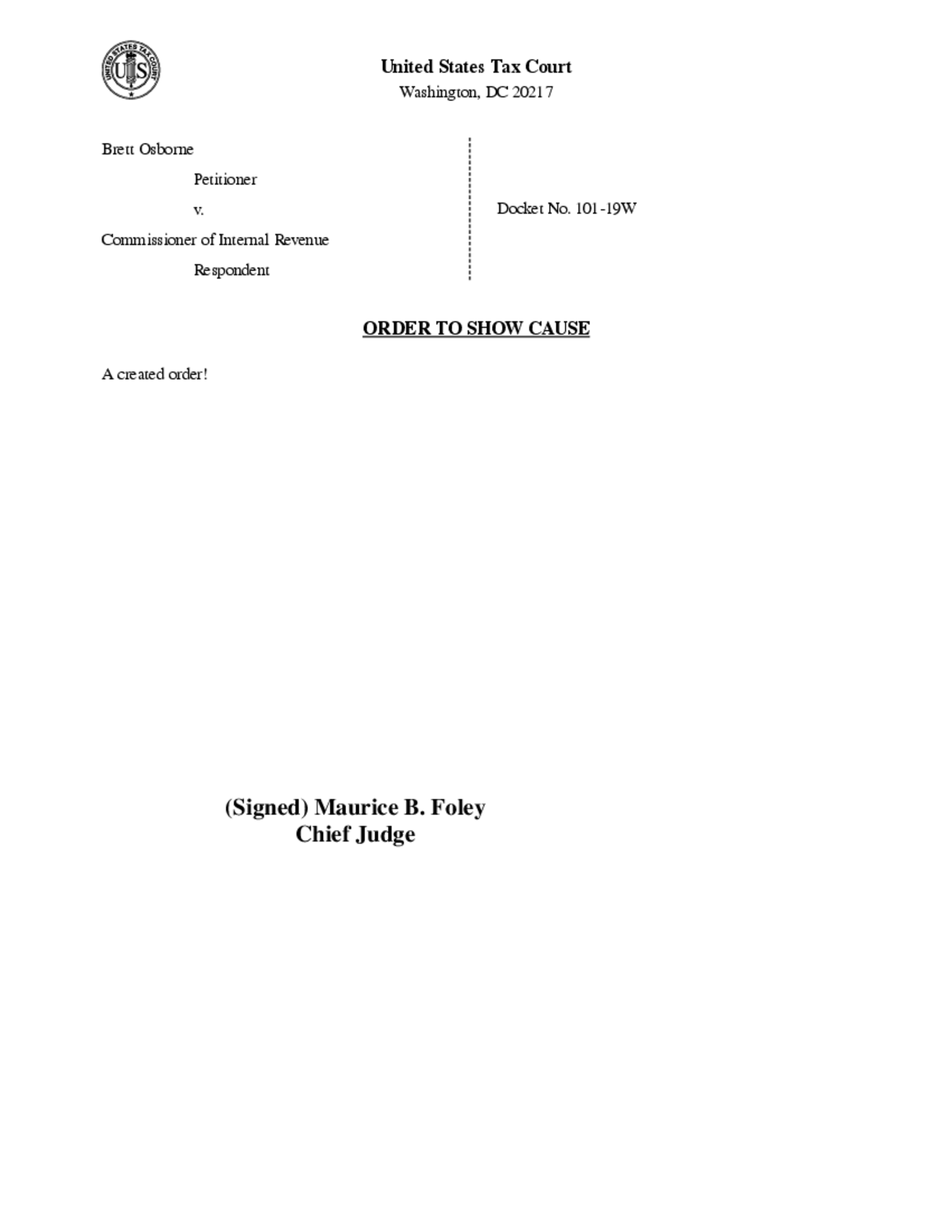signature: (226, 797, 486, 847)
